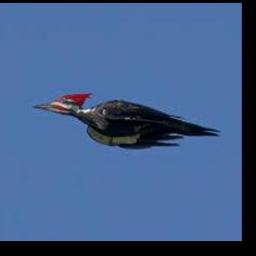Woodpecker: (33, 92, 221, 148)
